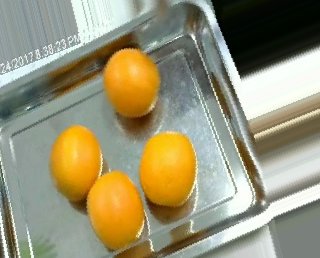Orange: (85, 169, 145, 249), (139, 131, 197, 208), (49, 123, 103, 201), (103, 46, 160, 116)
